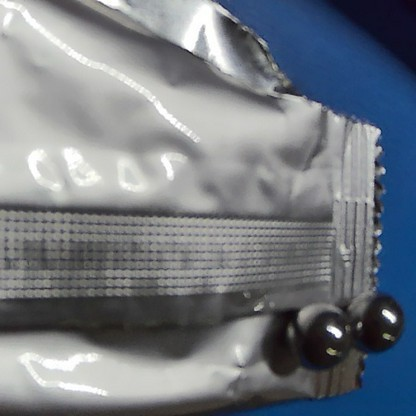ironball: (282, 294, 353, 379), (337, 284, 399, 369)
